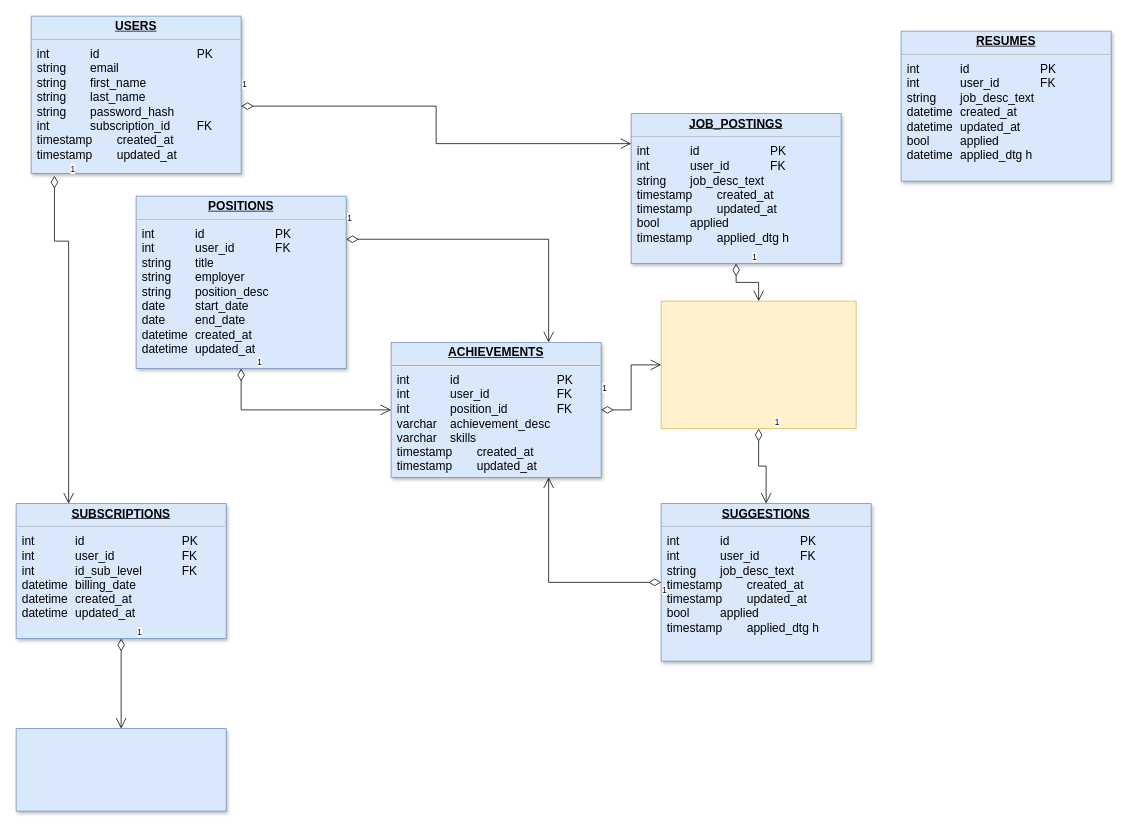
The diagram is 1129 pixels wide and 830 high, and some of its shapes have lost their labels. The centre of each missing label's shape, as x and y in pixels:
Achievement Suggestion Service: the point at 758,364
SUB_LEVELS int id PK string subscription_level: the point at 121,770
